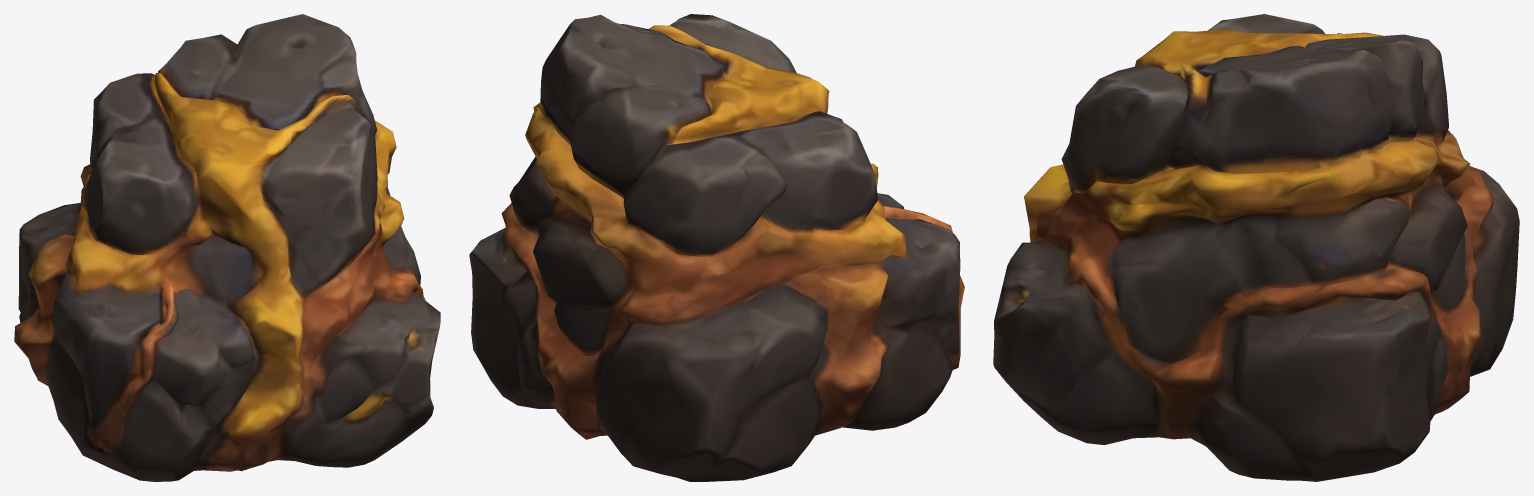
File: Minerales.glb
3 renders of one model, left to right at view 1: azimuth 30°, elevation 25°; view 2: azimuth 150°, elevation 25°; view 3: azimuth 270°, elevation 25°, orthographic. The views are drawn at different scales.
Visible parts, largest first — view 1: Minerales; view 2: Minerales; view 3: Minerales.
Boxes of the visible parts, bbox=[...] form: Minerales: bbox=[14, 14, 440, 481]; Minerales: bbox=[469, 14, 964, 481]; Minerales: bbox=[993, 14, 1519, 481].
Bounding box in the file's own units: 0.2681 × 0.2342 × 0.2813.
Materials: 1 (1 with a texture image).
